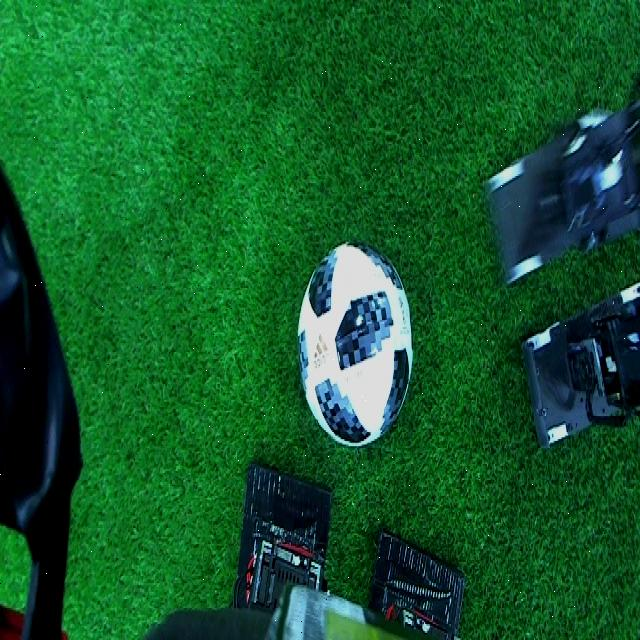ball: (297, 238, 414, 452)
